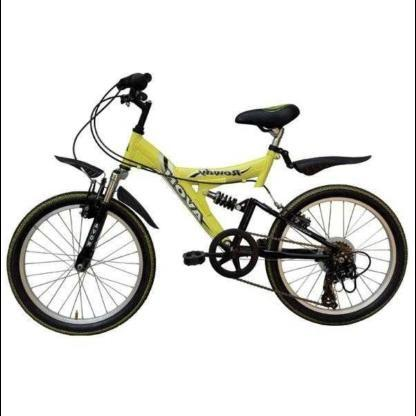Bicycle: (5, 39, 405, 353)
